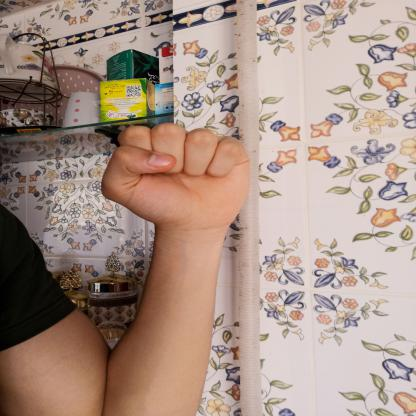SAD: (81, 110, 266, 242)
